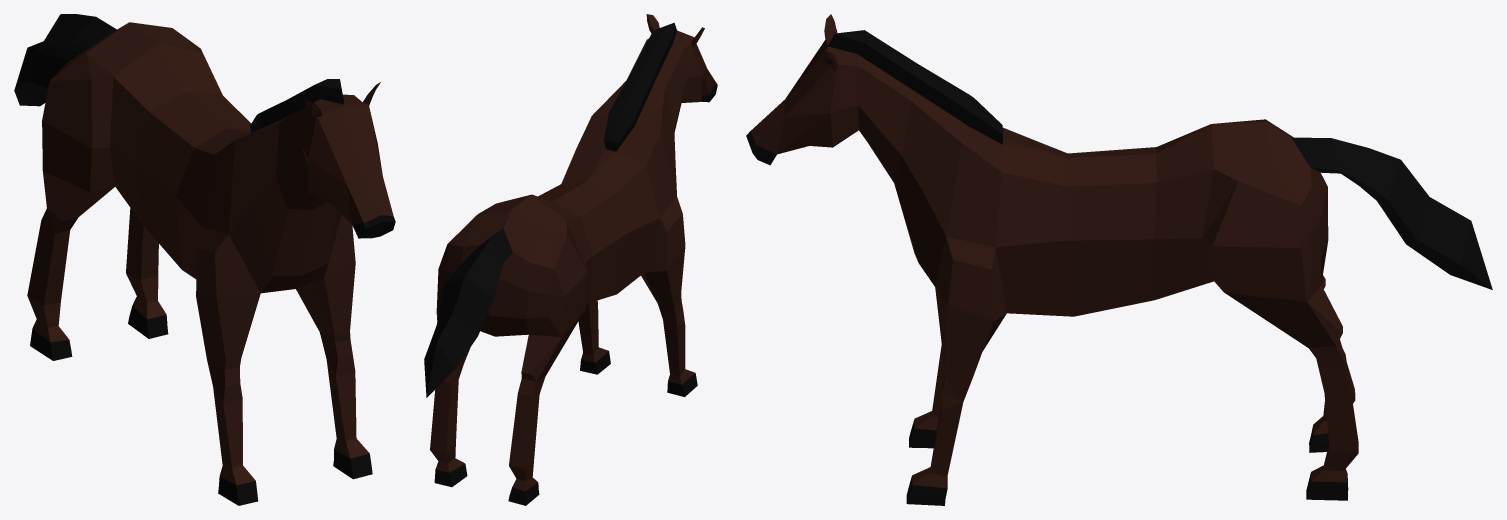
The model's file is Horse_000032.obj.
The picture shows the model from 3 angles, left to right: view 1: azimuth 30°, elevation 25°; view 2: azimuth 150°, elevation 25°; view 3: azimuth 270°, elevation 25°; orthographic projection. The views are drawn at different scales.
Visible parts, largest first — view 1: Horse_Cylinder; view 2: Horse_Cylinder; view 3: Horse_Cylinder.
Part boxes in pixels (x1,y1,x2,y2): Horse_Cylinder: [14, 14, 395, 505]; Horse_Cylinder: [424, 14, 717, 505]; Horse_Cylinder: [746, 14, 1492, 505].
Bounding box in the file's own units: 2.56 × 6.7 × 10.33.
